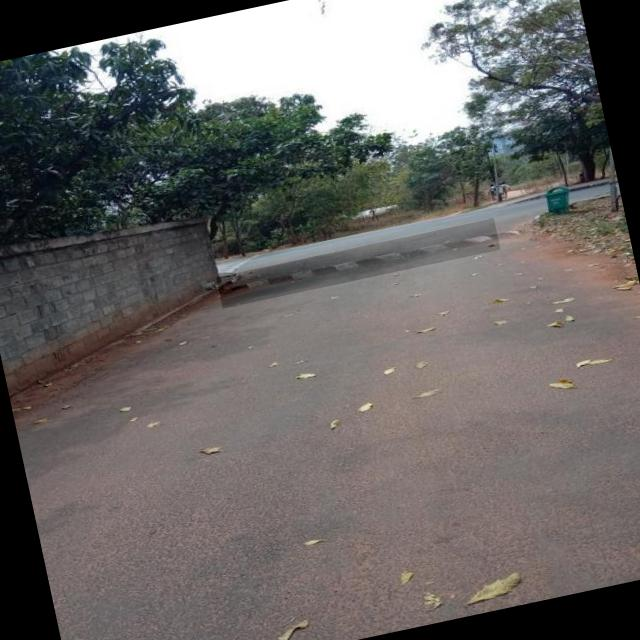bump: (216, 218, 500, 308)
